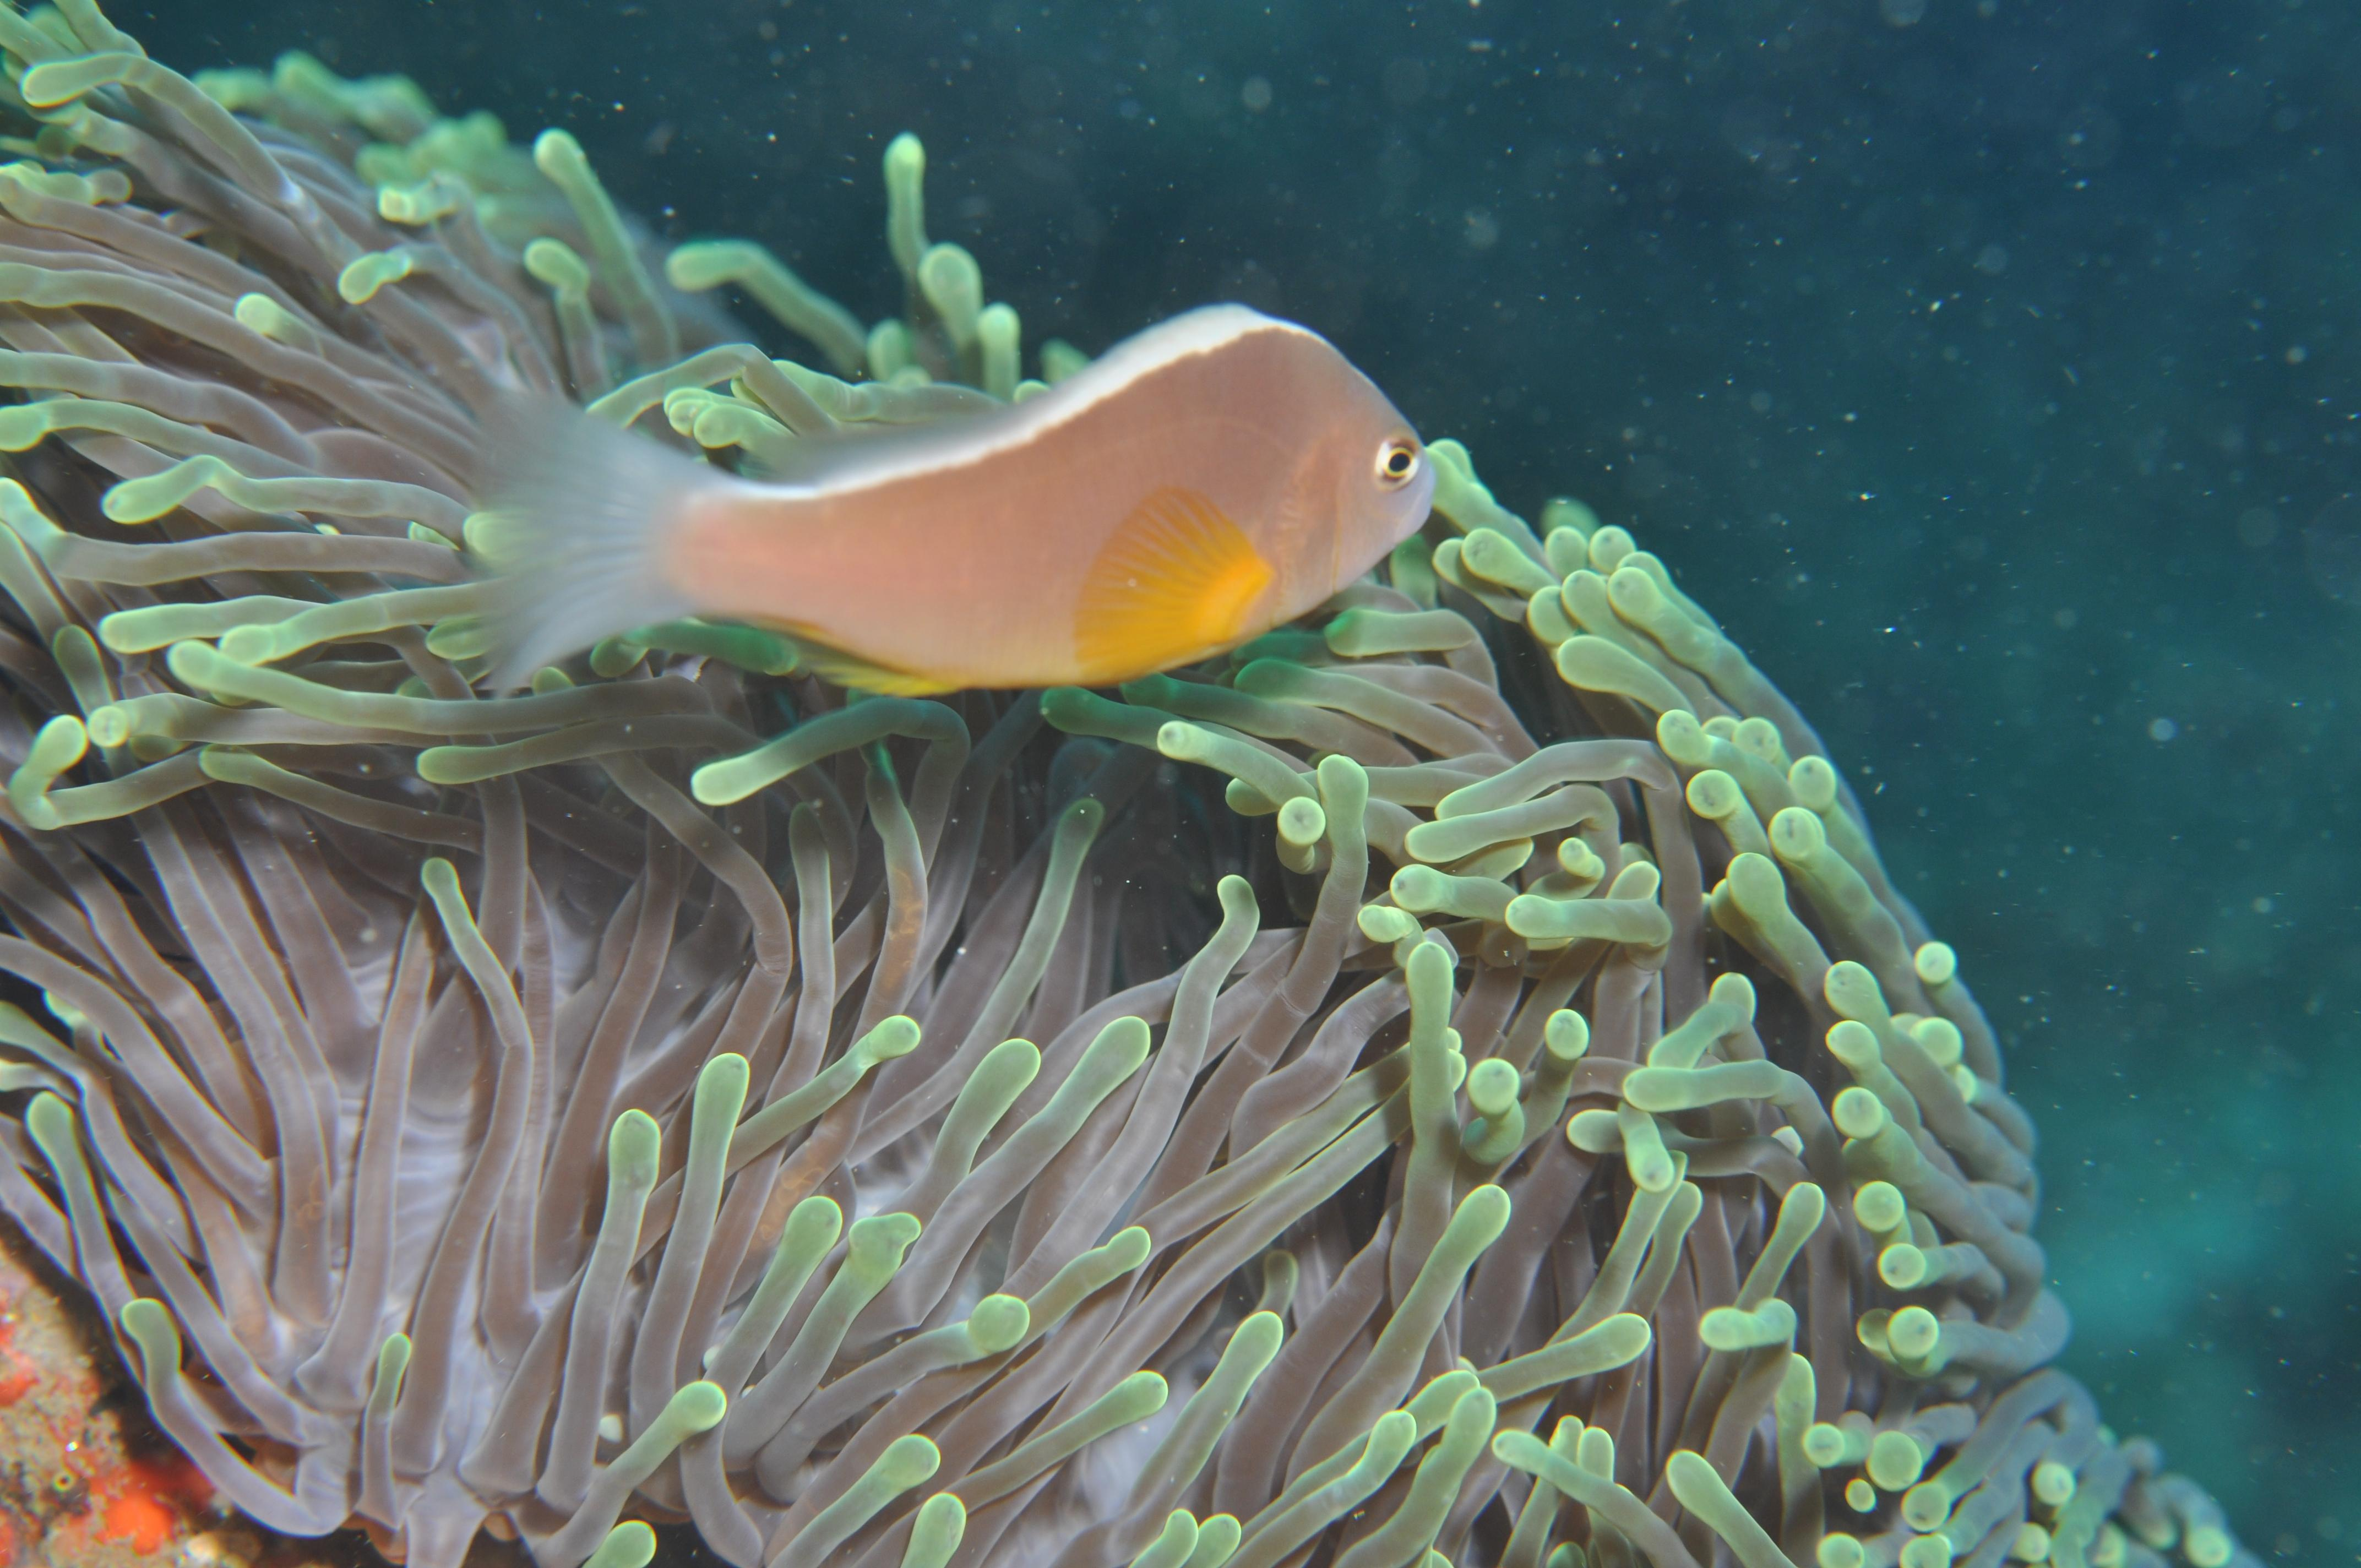Amphiprion akallopsis: (359, 192, 1463, 821)
